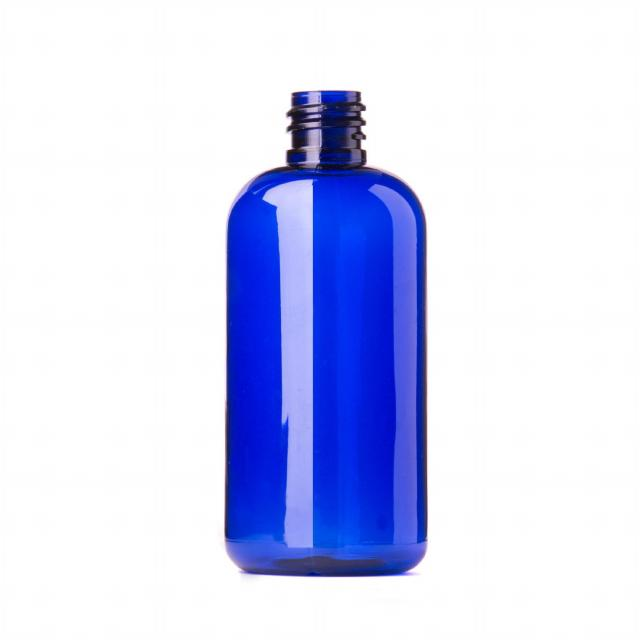plastic_bottle: (227, 88, 433, 582)
